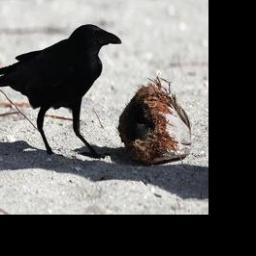Crow: (0, 23, 123, 160)
